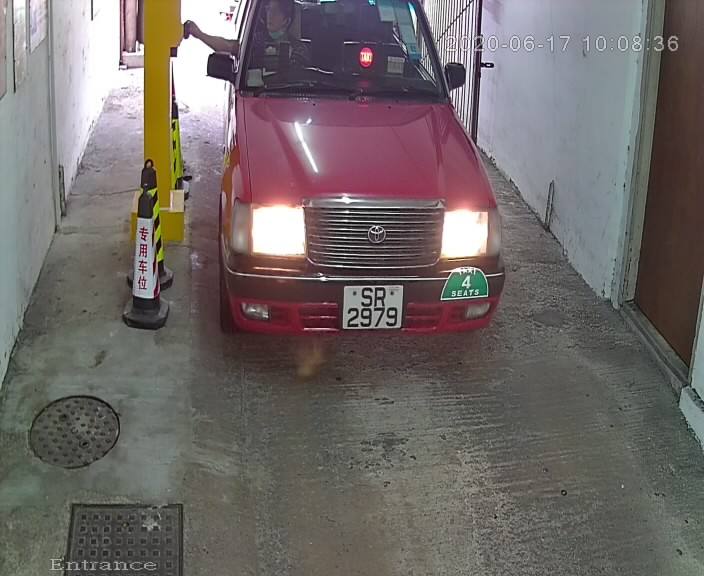taxi: (186, 2, 521, 366)
taxi_mark: (429, 257, 494, 311)
